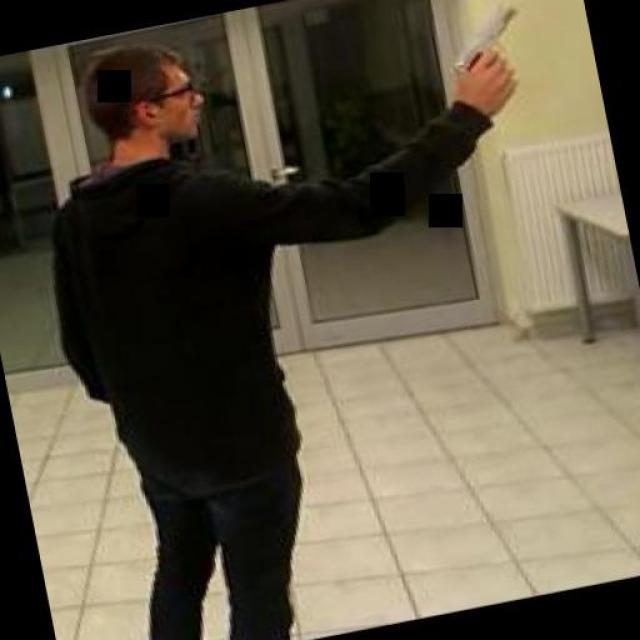gun: (438, 0, 532, 98)
